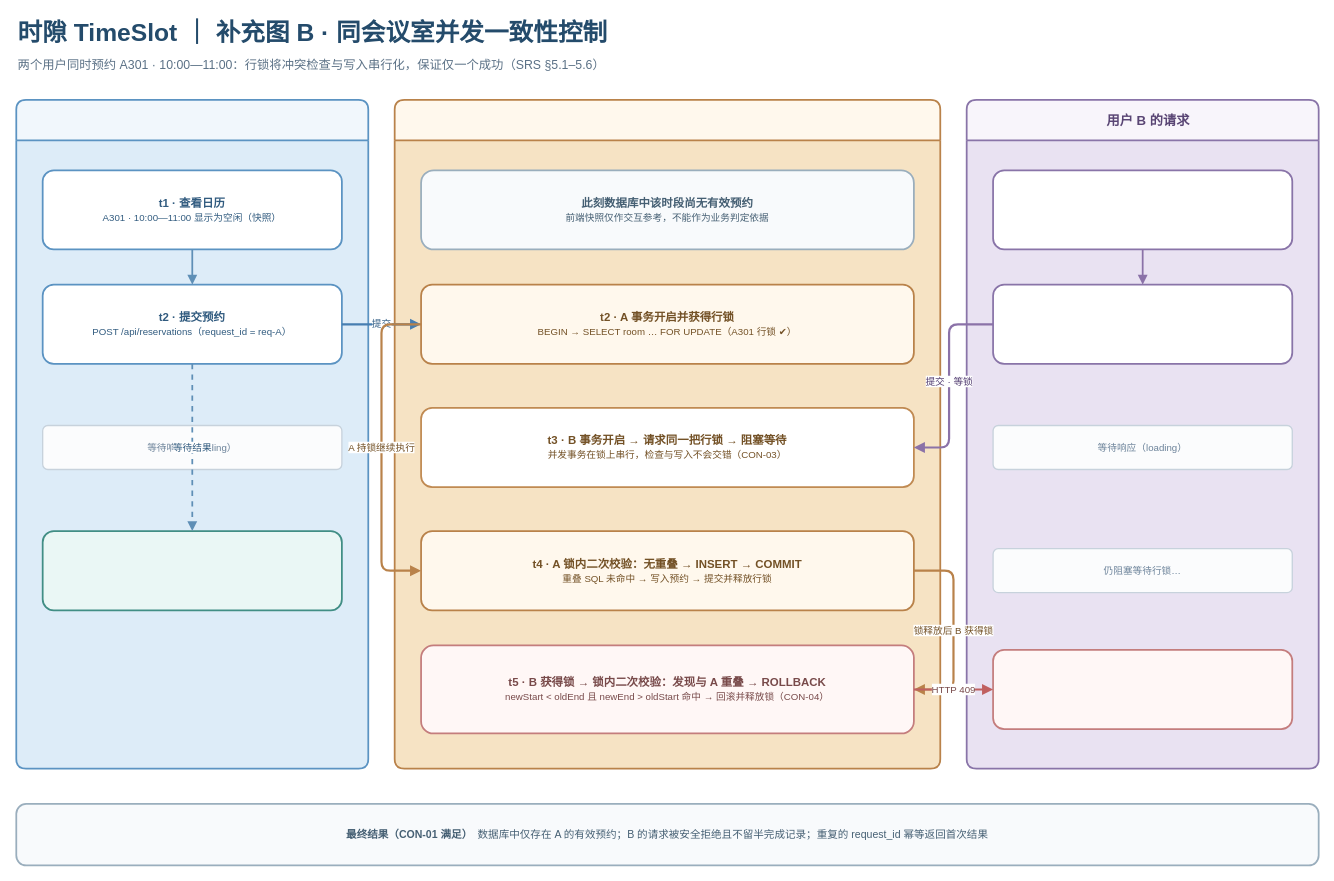
Some shapes in this 1334 by 881 pixel diagram are drawn without their labels. The box of each missing label's shape, as (x1, y1, x2, y2) in pixels:
t1 · 查看日历 A301 · 10:00—11:00 同样显示为空闲: (992, 169, 1293, 250)
t2 · 提交预约 POST /api/reservations（request_id = req-B）: (992, 283, 1293, 364)
t4 · HTTP 201 Created ✔ 预约成功 · 日历刷新显示预约块: (41, 530, 342, 611)
t5 · HTTP 409 Conflict 提示「该时段已被其他用户占用」 引导重选时间或会议室: (992, 649, 1293, 730)
服务端 · 单会议室临界区（room 行锁）: (393, 99, 941, 769)
用户 A 的请求: (15, 99, 369, 769)
